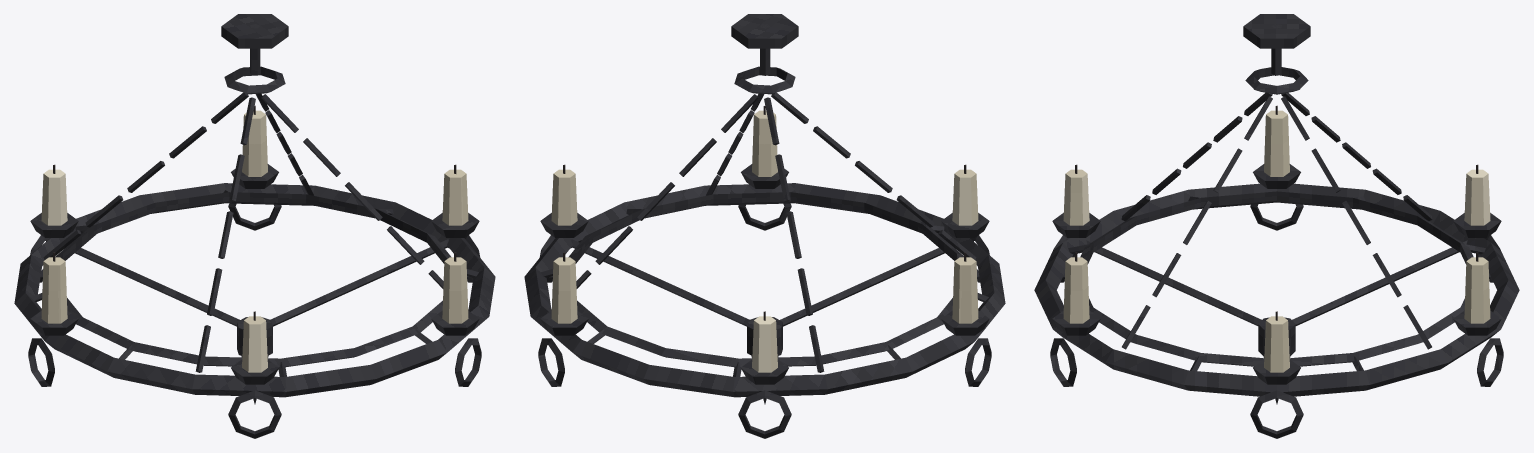
File: castle_chandelier_off.obj
3 renders of one model, left to right at view 1: azimuth 30°, elevation 25°; view 2: azimuth 150°, elevation 25°; view 3: azimuth 270°, elevation 25°, orthographic.
Visible parts, largest first — view 1: castle_chandelier; view 2: castle_chandelier; view 3: castle_chandelier.
Boxes of the visible parts, box(x1,y1,x2,y2) form: castle_chandelier: box(14, 14, 495, 438); castle_chandelier: box(524, 14, 1005, 438); castle_chandelier: box(1034, 14, 1519, 438).
Bounding box in the file's own units: 1.35 × 1.12 × 1.3.
